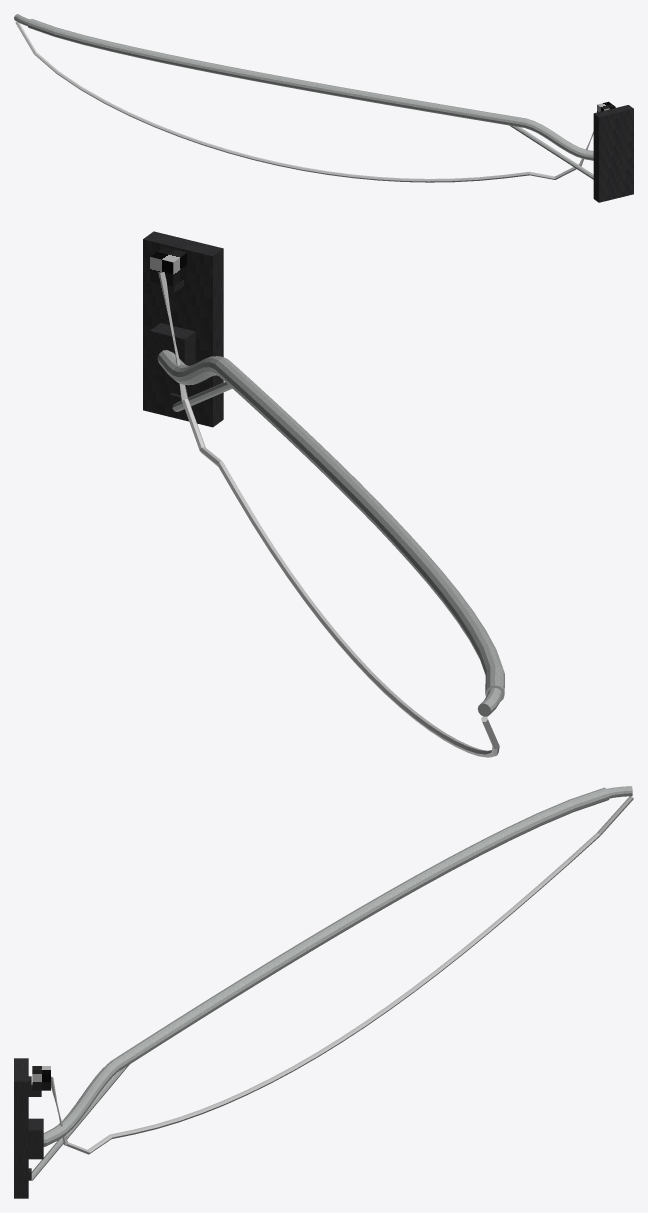
The model's file is arm_5_left_wired.obj.
3 views of the same model, one above another, from view 1: azimuth 30°, elevation 25°; view 2: azimuth 150°, elevation 25°; view 3: azimuth 270°, elevation 25° (orthographic). The views are drawn at different scales.
Visible parts, largest first — view 1: pole_light_mount_5_left_wired; view 2: pole_light_mount_5_left_wired; view 3: pole_light_mount_5_left_wired.
Boxes of the visible parts, x1,y1,x2,y2 form: pole_light_mount_5_left_wired: (14,14,633,202); pole_light_mount_5_left_wired: (143,231,504,757); pole_light_mount_5_left_wired: (14,786,633,1198).
Size of the model in its own units: 4.22 by 1.21 by 4.2.
